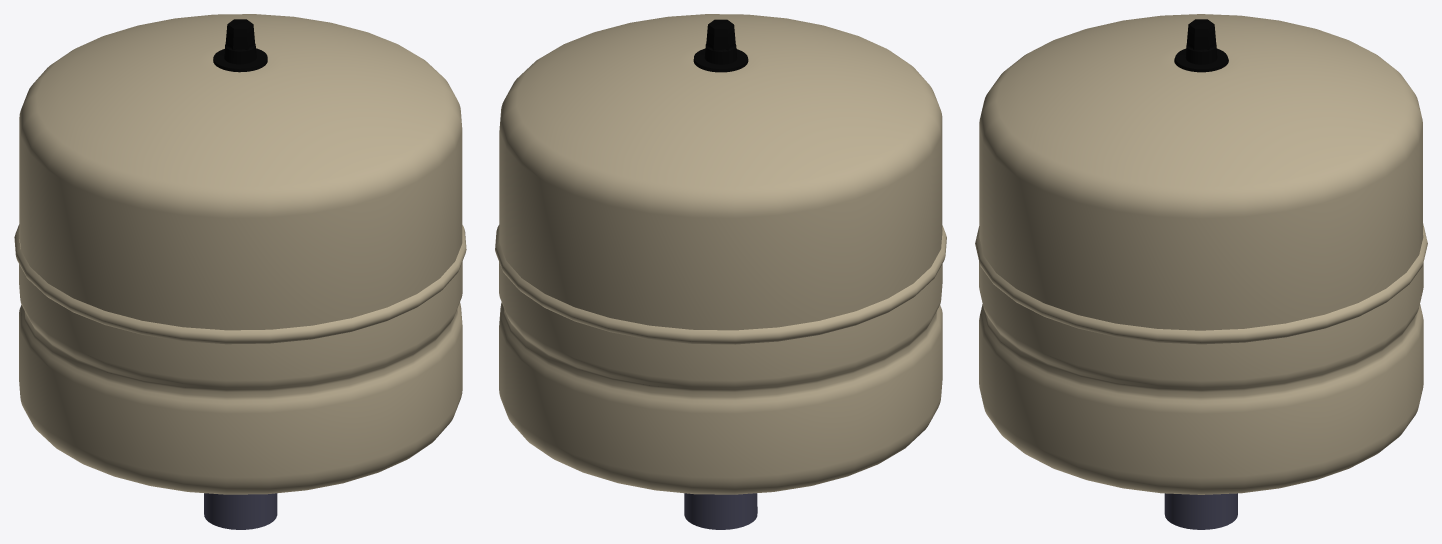
Rendered from 5lt-sabit-tank.obj.
3 renders of one model, left to right at view 1: azimuth 30°, elevation 25°; view 2: azimuth 150°, elevation 25°; view 3: azimuth 270°, elevation 25°, orthographic.
Parts seen in each view (by area): view 1: 5lt-sabit-tank.006, 5lt-sabit-tank.001, 5lt-sabit-tank.005, 5lt-sabit-tank.007, 5lt-sabit-tank; view 2: 5lt-sabit-tank.006, 5lt-sabit-tank.001, 5lt-sabit-tank.005, 5lt-sabit-tank.007, 5lt-sabit-tank; view 3: 5lt-sabit-tank.006, 5lt-sabit-tank.001, 5lt-sabit-tank.005, 5lt-sabit-tank.007, 5lt-sabit-tank.
Part boxes in pixels (x1=…): 5lt-sabit-tank.006: x1=19, y1=14, x2=462, y2=330; 5lt-sabit-tank.001: x1=19, y1=239, x2=462, y2=494; 5lt-sabit-tank.005: x1=14, y1=224, x2=466, y2=344; 5lt-sabit-tank.007: x1=204, y1=493, x2=277, y2=529; 5lt-sabit-tank: x1=213, y1=19, x2=267, y2=72; 5lt-sabit-tank.006: x1=499, y1=14, x2=942, y2=330; 5lt-sabit-tank.001: x1=499, y1=262, x2=942, y2=494; 5lt-sabit-tank.005: x1=495, y1=225, x2=946, y2=344; 5lt-sabit-tank.007: x1=684, y1=493, x2=757, y2=529; 5lt-sabit-tank: x1=693, y1=19, x2=748, y2=72; 5lt-sabit-tank.006: x1=979, y1=14, x2=1422, y2=330; 5lt-sabit-tank.001: x1=979, y1=261, x2=1423, y2=494; 5lt-sabit-tank.005: x1=975, y1=223, x2=1427, y2=344; 5lt-sabit-tank.007: x1=1164, y1=493, x2=1237, y2=529; 5lt-sabit-tank: x1=1174, y1=19, x2=1228, y2=72.
Bounding box in the file's own units: 8.34 × 9.96 × 8.34.
